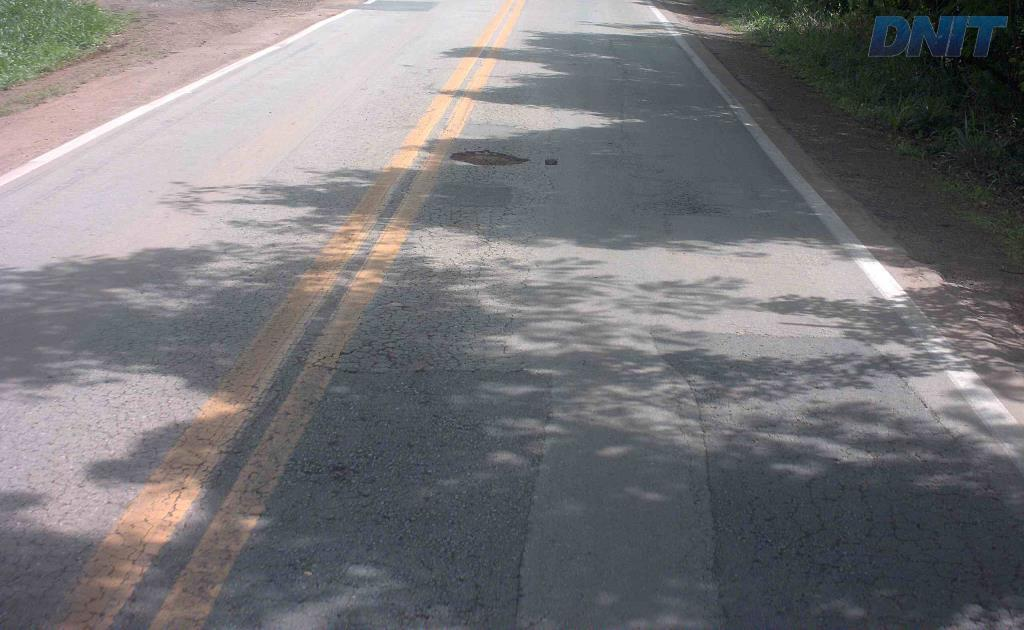pothole: (448, 145, 530, 166), (542, 156, 558, 164)
